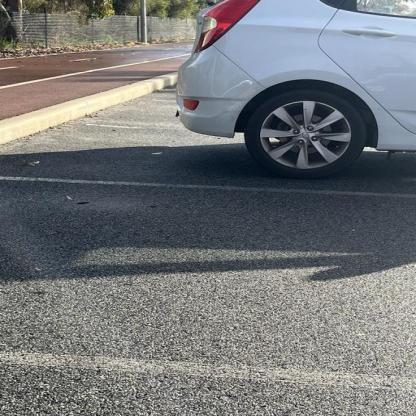Tire: (244, 89, 368, 180)
